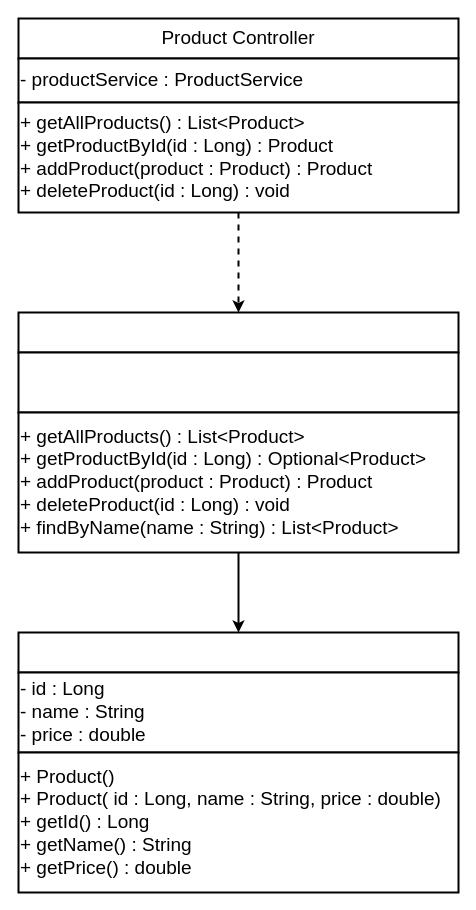
Some shapes in this 476 by 910 pixel diagram are drawn without their labels. Here are the shapes that lost their labels. From the top down, the box of each, then its label:
(17, 311, 459, 353): ProductService
(17, 351, 459, 413): - products : List<Product> - nextId : Long
(17, 631, 459, 673): Product
